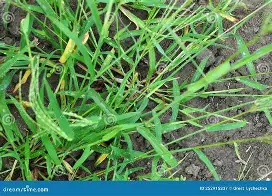weed: (0, 0, 271, 179)
